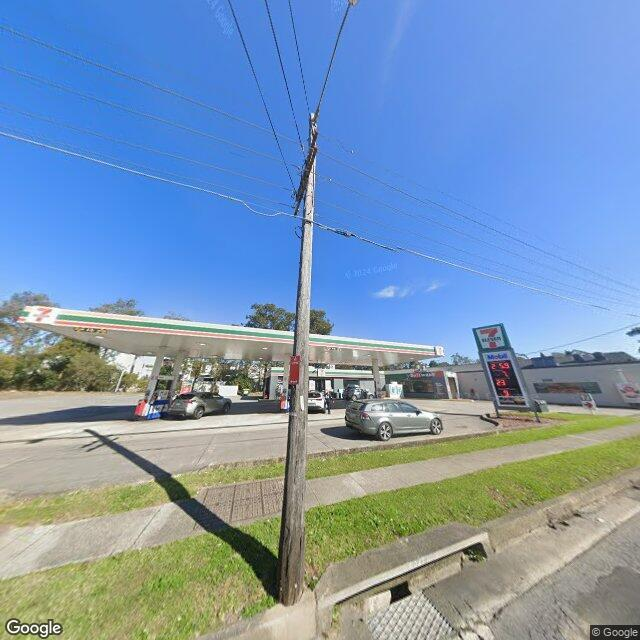crossarm: (292, 127, 319, 200), (289, 148, 317, 217)
streetlight: (311, 0, 359, 124)
timber-pole: (276, 113, 318, 607)
